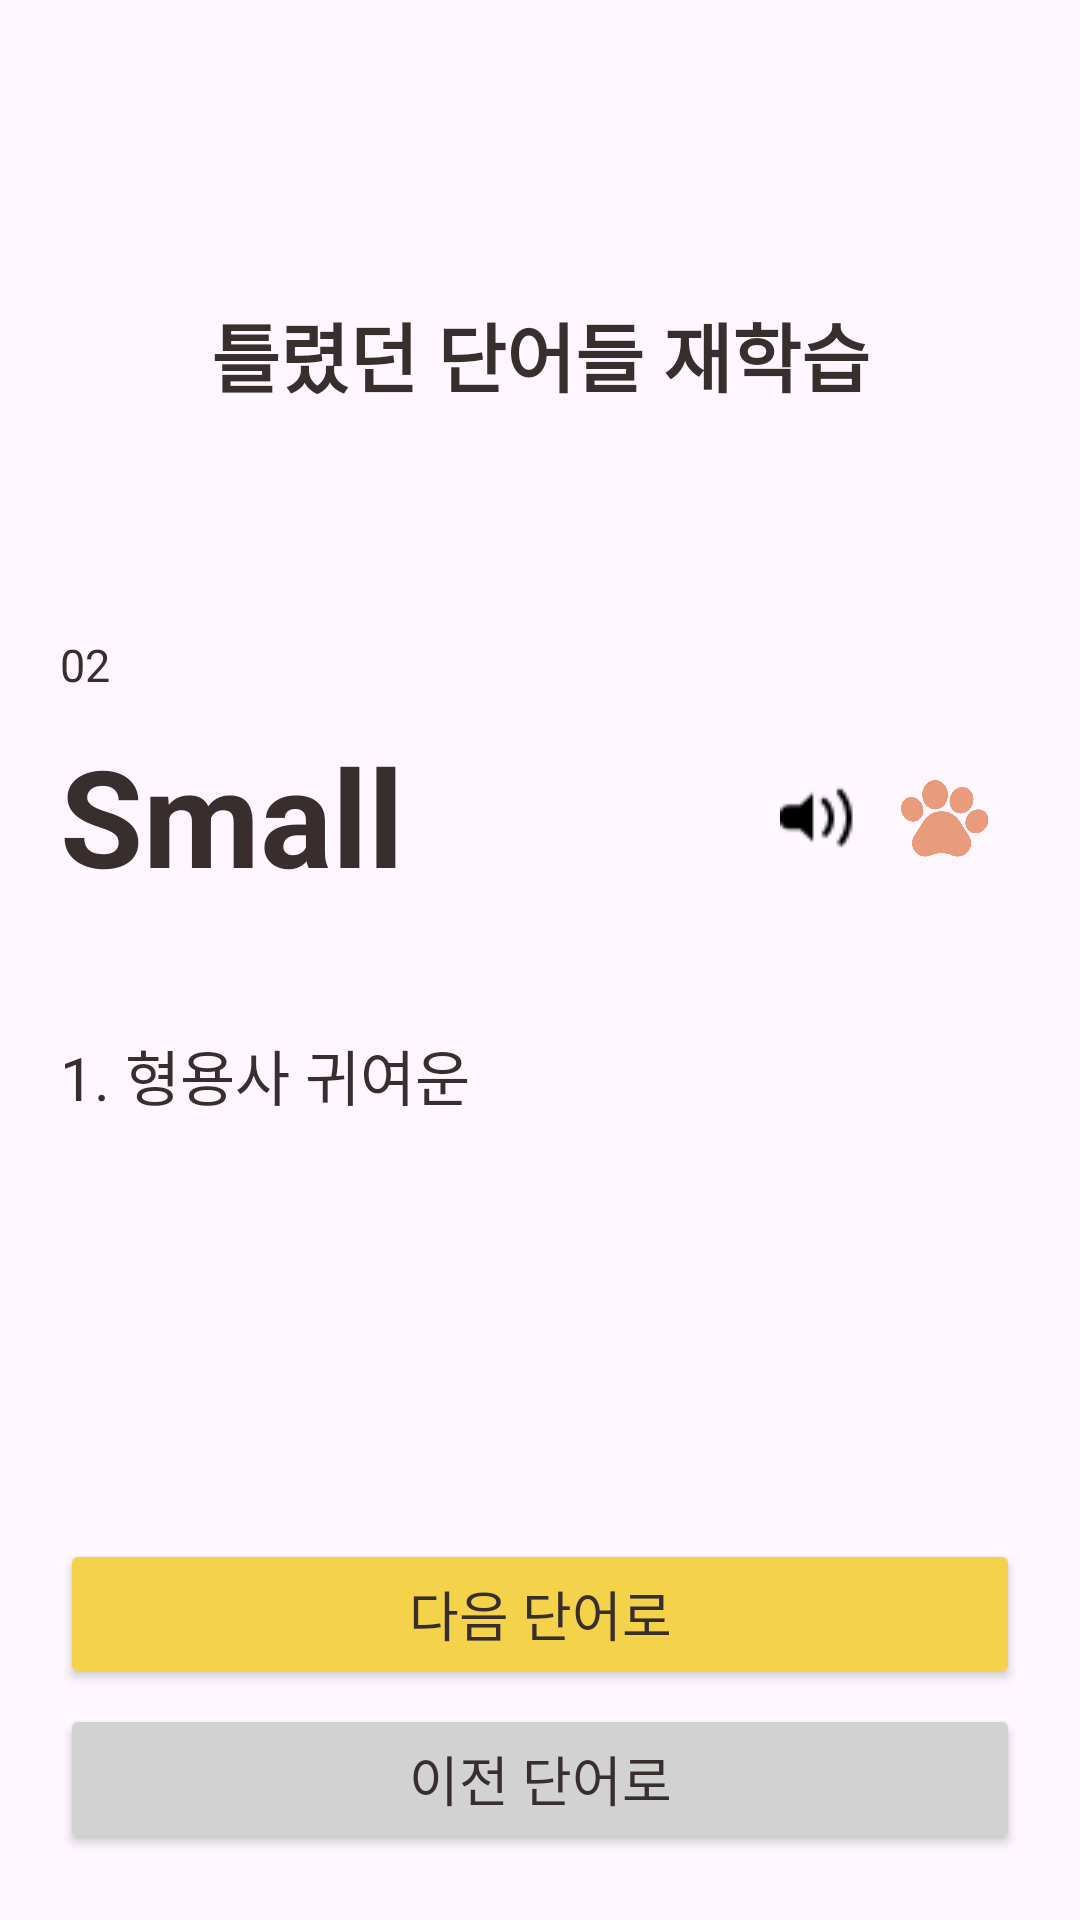

Where to tap for icons on this 1080x1920 app screen, as [x,y]:
voice: [816,818]
